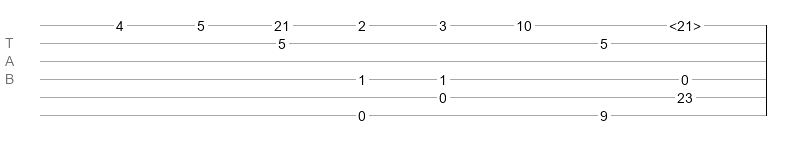0: (358, 108, 366, 118), (439, 90, 447, 100), (681, 72, 689, 82)
1: (358, 72, 366, 82), (439, 72, 447, 82)
10: (516, 18, 532, 28)
2: (358, 18, 366, 28)
21: (274, 18, 290, 28)
23: (677, 90, 693, 100)
3: (439, 18, 447, 28)
4: (116, 18, 124, 28)
5: (197, 18, 205, 28), (278, 36, 286, 46), (600, 36, 608, 46)
9: (600, 108, 608, 118)
harmonic: (669, 18, 701, 28)
